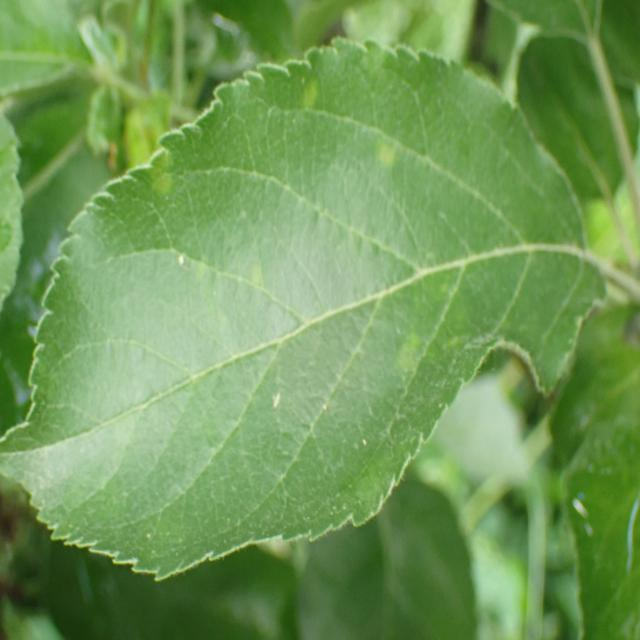scab: (14, 56, 591, 499)
